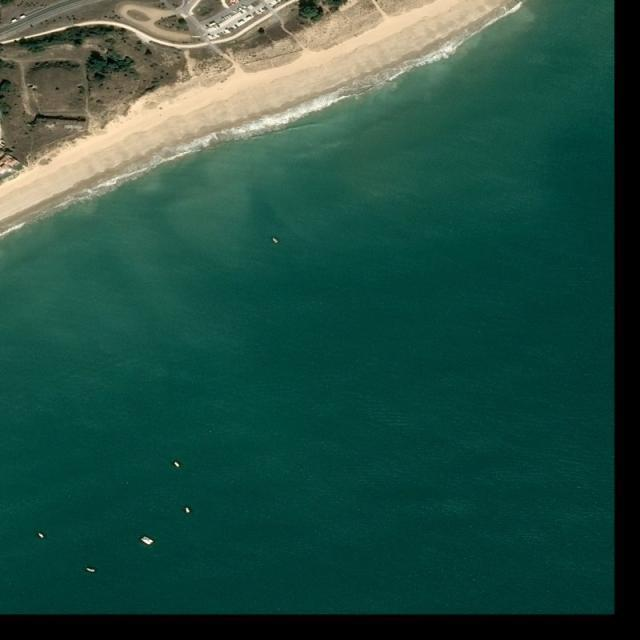ship: (140, 534, 154, 546), (85, 566, 97, 574), (38, 532, 46, 540), (174, 461, 181, 469), (185, 506, 191, 514), (271, 237, 278, 243)
